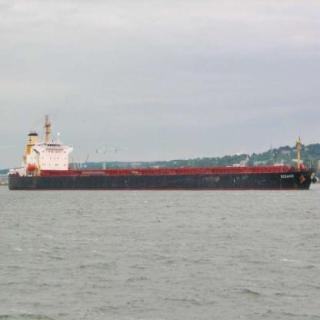Bulk Carrier: (0, 145, 318, 194)
